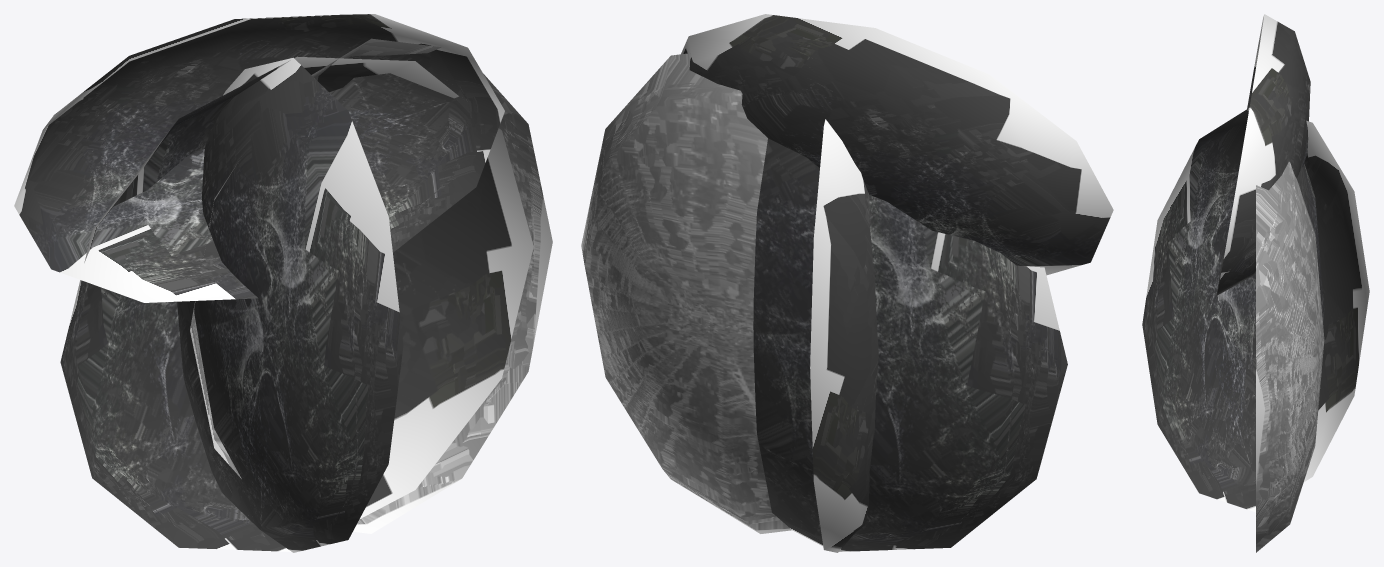
The model's file is cobweb6.FBX.
3 views of the same model, side by side, from view 1: azimuth 30°, elevation 25°; view 2: azimuth 150°, elevation 25°; view 3: azimuth 270°, elevation 25° (orthographic). The views are drawn at different scales.
Parts seen in each view (by area): view 1: cobweb006; view 2: cobweb006; view 3: cobweb006.
Boxes of the visible parts, x1,y1,x2,y2 form: cobweb006: (14,14,552,552); cobweb006: (581,14,1113,552); cobweb006: (1142,14,1369,552).
Size of the model in its own units: 104 by 100 by 46.16.
